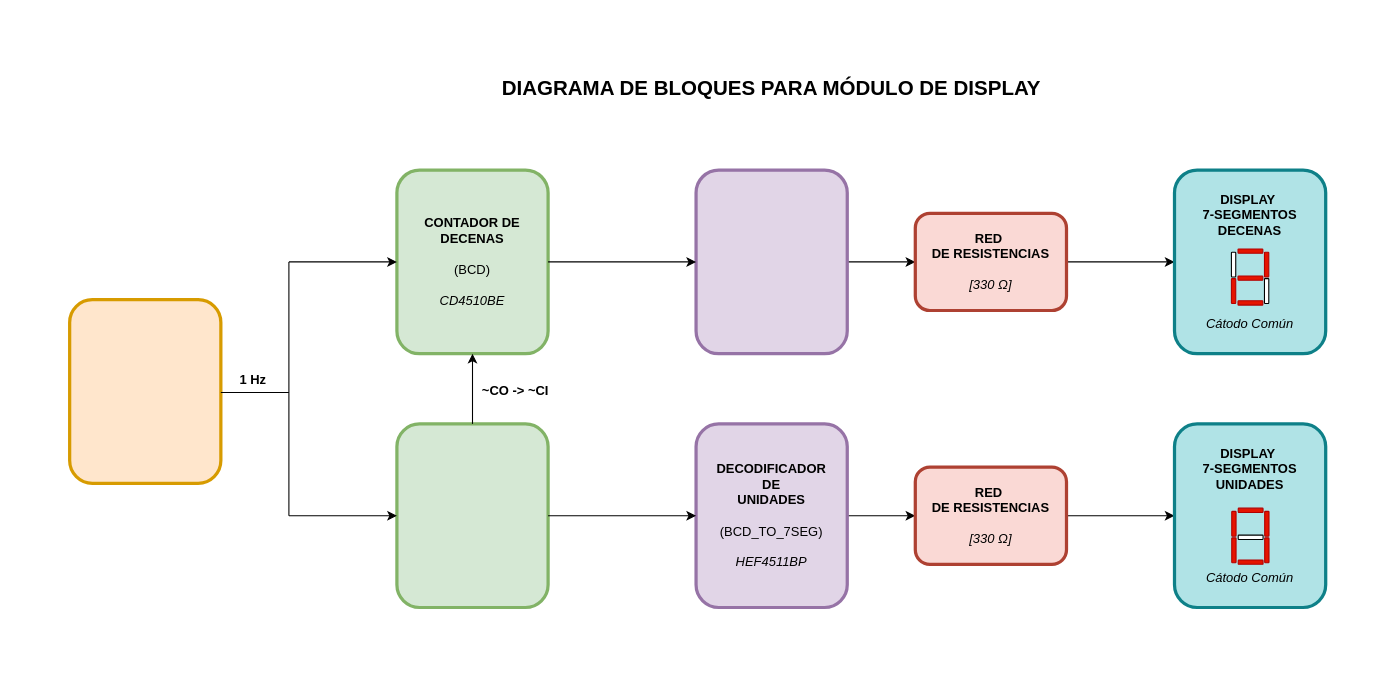
Image size: 1383x674. Some labels were removed from this diagram. Here are the shapes that lost their labels. From the top down, the centre of each, then its label:
At (771,261): "DECODIFICADOR DE DECENAS (BCD_TO_7SEG) HEF4511BP".
At (145,391): "GENERADOR DE RELOJ [555]".
At (472,515): "CONTADOR DE UNIDADES (BCD) CD4510BE".
